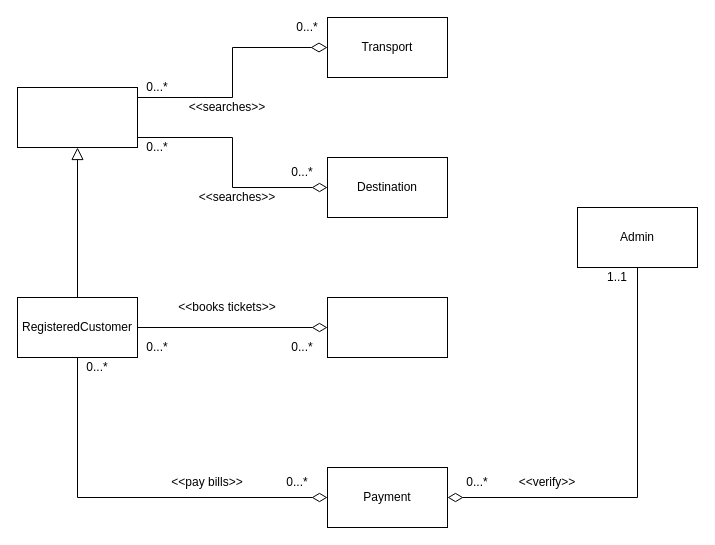
Image size: 715x545. Some labels were removed from this diagram. The shapes that lost their labels are listed below. From the top down, each one's centre as x and y in pixels, then its label:
At (77,117): "Customer".
At (387,327): "BookTicket".
